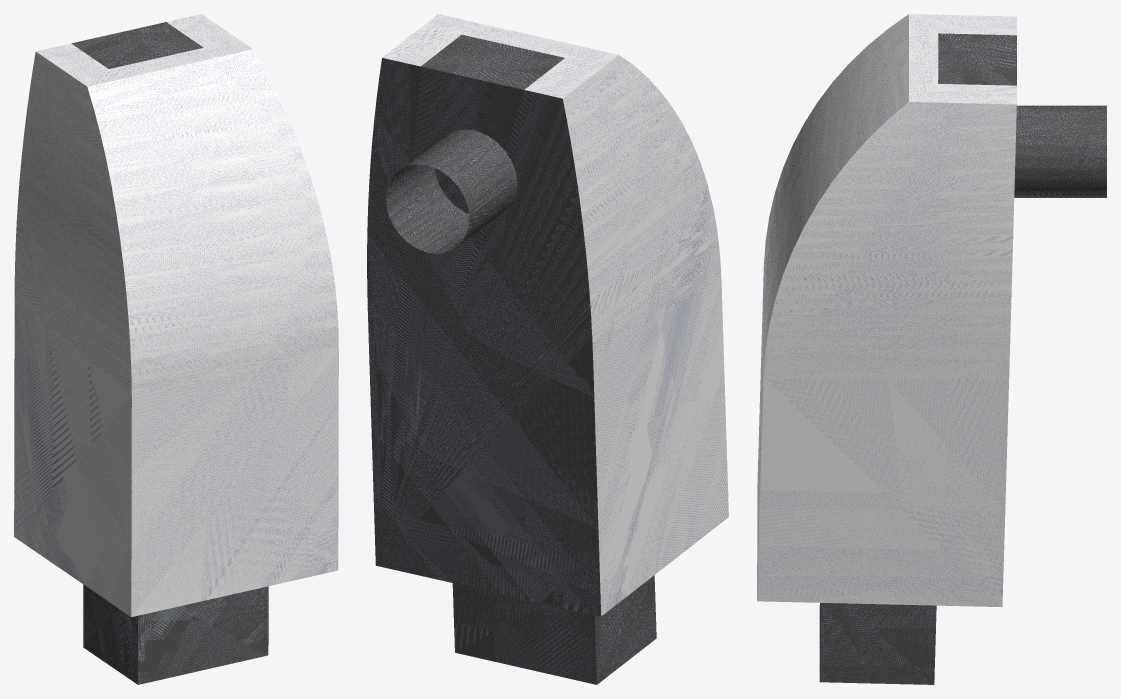
File: LF-up-leg-aibo-ers7.dae
3 renders of one model, left to right at view 1: azimuth 30°, elevation 25°; view 2: azimuth 150°, elevation 25°; view 3: azimuth 270°, elevation 25°, orthographic. The views are drawn at different scales.
Parts seen in each view (by area): view 1: Component_3 (×3); view 2: Component_3 (×4); view 3: Component_3 (×4).
Part boxes in pixels (x1=…): Component_3 (×3): x1=14, y1=14, x2=338, y2=684; Component_3 (×4): x1=367, y1=14, x2=728, y2=684; Component_3 (×4): x1=757, y1=14, x2=1106, y2=684.
Bounding box in the file's own units: 10.84 × 14.87 × 28.15.
